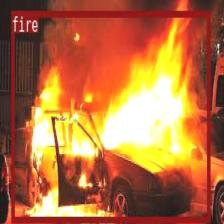fire: (10, 10, 210, 222)
